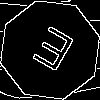E: (25, 25, 77, 81)
